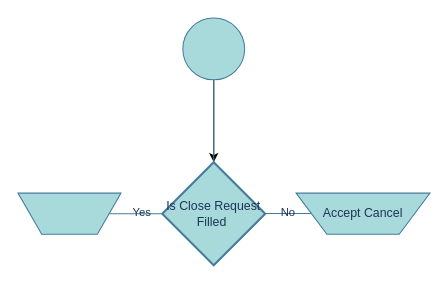
Some shapes in this 448 by 284 pixel diagram are drawn without their labels. Here are the shapes that lost their labels. From the top down, the centre of each, then its label:
point (213, 48): Cancel Close Request
point (69, 213): Fill Close
